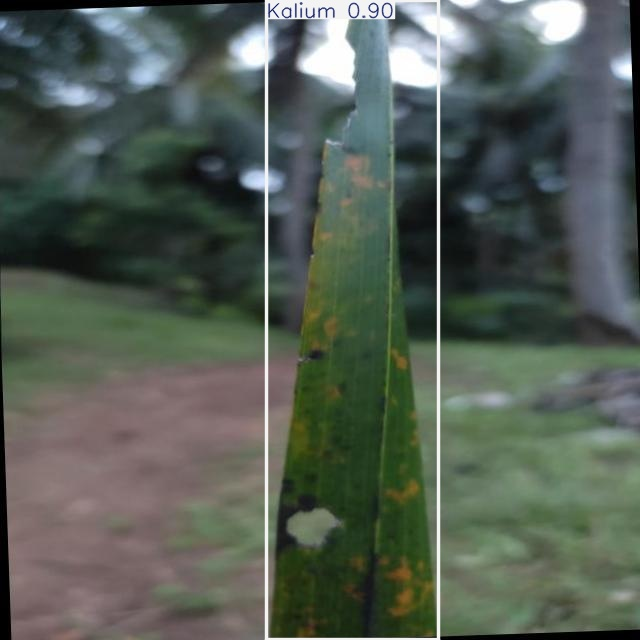Kalium: (267, 0, 438, 640)
